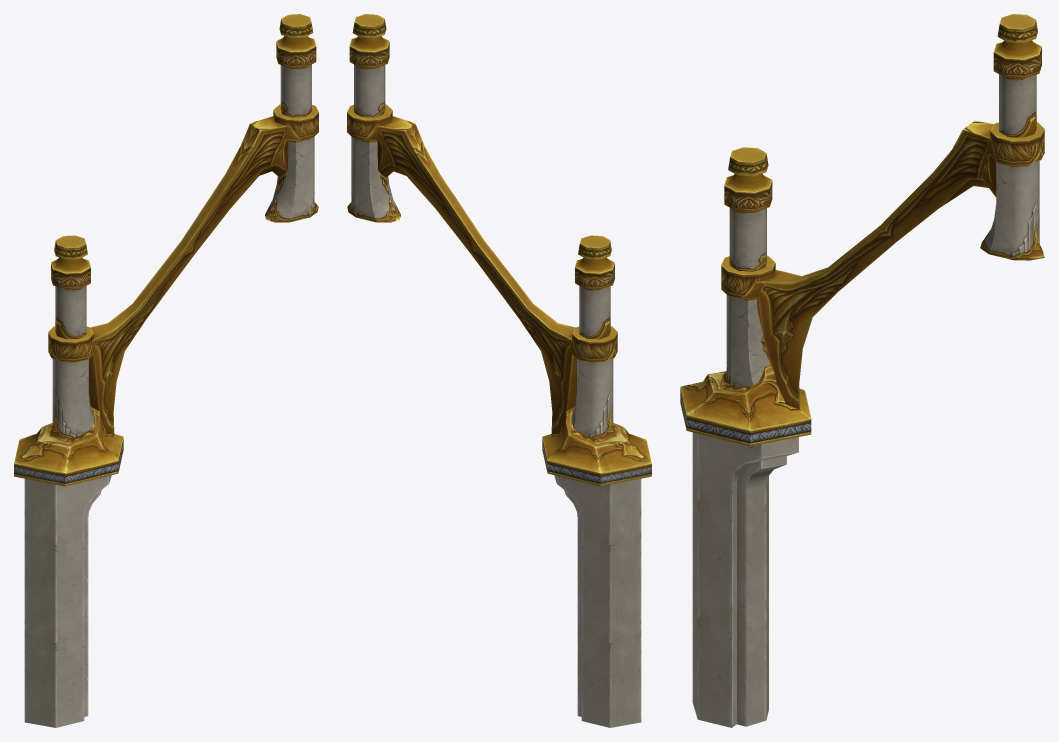
The model's file is G_bianzhu001.fbx.
3 renders of one model, left to right at view 1: azimuth 30°, elevation 25°; view 2: azimuth 150°, elevation 25°; view 3: azimuth 330°, elevation 25°, orthographic. The views are drawn at different scales.
Parts seen in each view (by area): view 1: G_bianzhu001; view 2: G_bianzhu001; view 3: G_bianzhu001.
Part boxes in pixels (x1,y1,x2,y2): G_bianzhu001: [14, 14, 318, 727]; G_bianzhu001: [347, 14, 651, 727]; G_bianzhu001: [680, 14, 1044, 727].
Size of the model in its own units: 1080 by 2153 by 281.
